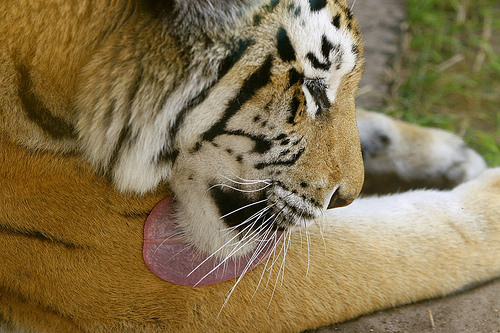Tigre: (109, 1, 403, 288)
